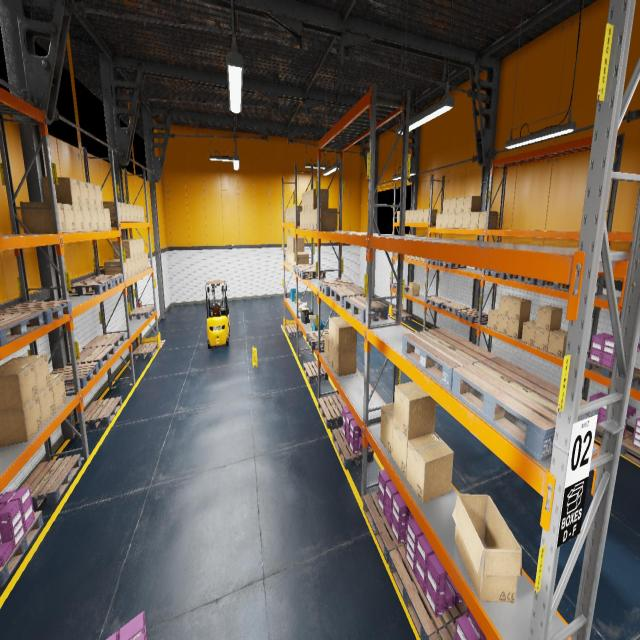box: (452, 494, 522, 602), (406, 432, 454, 503), (393, 381, 436, 440), (392, 422, 434, 478), (0, 395, 42, 446), (0, 354, 51, 394), (0, 363, 38, 411), (20, 201, 66, 233), (42, 176, 81, 206), (333, 321, 357, 352), (38, 384, 56, 425), (380, 404, 394, 456), (536, 305, 562, 331), (334, 346, 356, 376), (50, 373, 66, 412), (534, 326, 558, 351), (548, 330, 567, 358), (508, 297, 531, 320), (328, 316, 346, 345), (507, 317, 529, 339), (498, 295, 519, 317), (104, 260, 128, 279), (110, 258, 132, 278), (317, 208, 337, 230), (112, 240, 134, 258), (310, 188, 328, 210), (62, 204, 76, 232), (103, 202, 122, 222), (522, 320, 536, 346), (478, 212, 498, 228), (73, 205, 84, 232), (463, 196, 481, 212), (122, 240, 138, 257), (124, 240, 141, 256), (79, 180, 89, 206), (87, 182, 97, 208), (82, 206, 92, 231), (128, 239, 144, 254), (487, 309, 498, 330), (497, 314, 508, 334), (94, 184, 103, 208), (90, 208, 99, 230), (97, 208, 105, 231), (423, 209, 437, 222), (103, 208, 111, 230), (292, 238, 304, 252), (290, 237, 302, 251), (293, 252, 306, 264), (288, 237, 300, 250), (408, 283, 420, 296), (295, 253, 309, 264), (470, 212, 479, 228), (462, 212, 471, 228), (456, 196, 464, 212), (442, 198, 450, 214), (120, 202, 126, 222), (454, 213, 462, 228), (125, 203, 131, 222), (329, 340, 333, 368), (295, 206, 302, 222), (324, 334, 328, 361), (449, 198, 456, 213), (448, 214, 455, 228), (131, 258, 136, 276), (138, 255, 143, 272), (442, 214, 448, 228), (436, 214, 442, 228), (310, 210, 314, 229), (130, 204, 134, 222), (135, 256, 139, 274), (134, 205, 138, 222), (418, 209, 423, 222), (137, 206, 141, 222), (140, 206, 144, 222), (142, 254, 146, 270), (314, 209, 317, 230), (144, 253, 148, 268), (307, 190, 310, 210), (409, 210, 414, 222), (286, 209, 290, 222), (302, 212, 305, 228), (414, 210, 418, 222), (405, 210, 409, 222), (298, 306, 305, 312), (300, 302, 307, 308), (308, 210, 310, 230), (305, 192, 307, 210), (302, 193, 304, 211), (305, 211, 307, 229), (421, 258, 430, 262), (300, 212, 302, 228), (293, 206, 295, 222), (291, 206, 293, 222), (288, 208, 290, 222), (290, 251, 292, 265), (296, 301, 302, 305), (299, 302, 305, 306), (397, 211, 399, 222), (416, 256, 421, 260), (411, 256, 416, 260), (407, 255, 411, 259), (290, 208, 291, 222), (287, 208, 288, 222), (289, 250, 290, 264), (286, 248, 287, 262), (292, 252, 293, 265), (287, 237, 288, 250), (404, 255, 406, 258), (396, 253, 398, 256), (288, 250, 288, 262)
forklift: (206, 280, 229, 348)
pallets: (452, 358, 598, 460), (389, 544, 467, 639), (402, 328, 497, 389), (18, 454, 82, 509), (0, 510, 43, 587), (363, 490, 406, 564), (0, 300, 73, 326), (332, 428, 374, 470), (75, 396, 122, 432), (585, 358, 640, 387), (0, 312, 44, 346), (50, 362, 99, 391), (66, 344, 115, 369), (344, 295, 388, 322), (428, 612, 466, 640), (318, 393, 347, 428), (62, 279, 112, 297), (82, 332, 124, 350), (330, 285, 364, 306), (594, 425, 633, 442), (318, 279, 356, 296), (620, 435, 640, 465), (82, 274, 123, 288), (304, 361, 328, 383), (306, 329, 328, 350), (133, 342, 158, 360), (457, 309, 488, 323), (538, 280, 569, 292), (129, 306, 155, 320), (441, 302, 469, 315), (297, 267, 326, 279), (506, 274, 538, 284), (425, 296, 451, 308), (292, 264, 316, 275), (286, 324, 303, 337), (392, 310, 412, 320), (485, 270, 507, 279), (438, 261, 466, 268), (426, 258, 443, 266), (393, 284, 409, 291)
